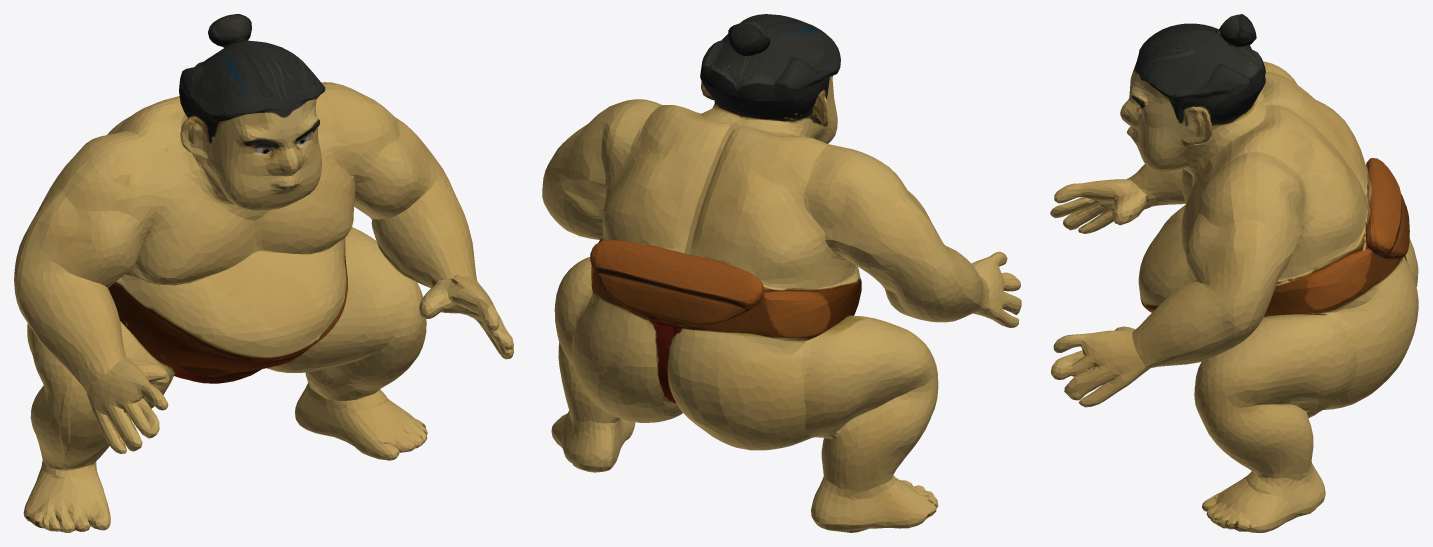
File: sumo_2.glb
The picture shows the model from 3 angles, left to right: view 1: azimuth 30°, elevation 25°; view 2: azimuth 150°, elevation 25°; view 3: azimuth 270°, elevation 25°; orthographic projection. The views are drawn at different scales.
Visible parts, largest first — view 1: world; view 2: world; view 3: world.
Boxes of the visible parts, left/top/right/bottom form: world: left=14, top=14, right=513, bottom=532; world: left=542, top=14, right=1021, bottom=532; world: left=1050, top=14, right=1418, bottom=532.
Size of the model in its own units: 0.9582 by 0.998 by 0.7676.
1 material, 1 textured.
